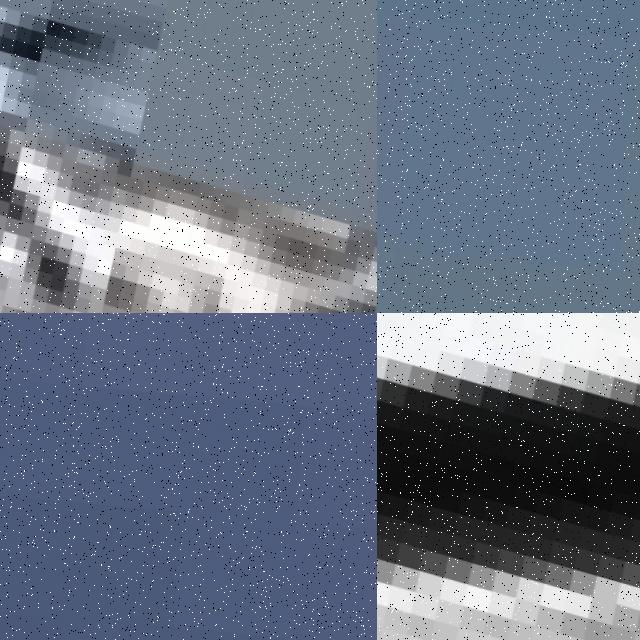drone: (0, 0, 377, 313), (377, 313, 640, 640)
